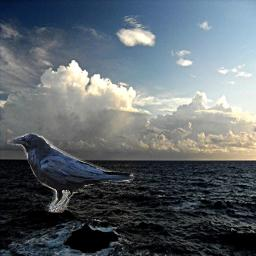Crow: (7, 133, 135, 214)
